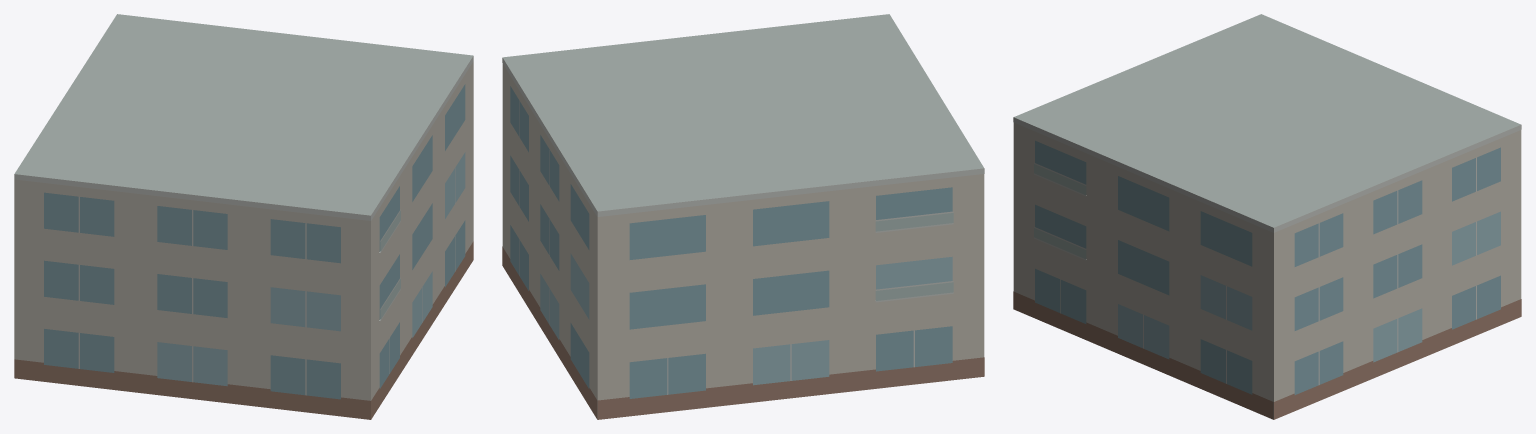
Rendered from survey-upis-32772389.glb.
The picture shows the model from 3 angles, left to right: view 1: azimuth 30°, elevation 25°; view 2: azimuth 150°, elevation 25°; view 3: azimuth 270°, elevation 25°; orthographic projection. The views are drawn at different scales.
Parts seen in each view (by area): view 1: survey-upis-32772389.tmp; view 2: survey-upis-32772389.tmp; view 3: survey-upis-32772389.tmp.
Boxes of the visible parts, x1,y1,x2,y2 form: survey-upis-32772389.tmp: [14, 14, 473, 419]; survey-upis-32772389.tmp: [502, 14, 984, 419]; survey-upis-32772389.tmp: [1013, 14, 1521, 419].
Size of the model in its own units: 21.85 by 9.15 by 21.93.
